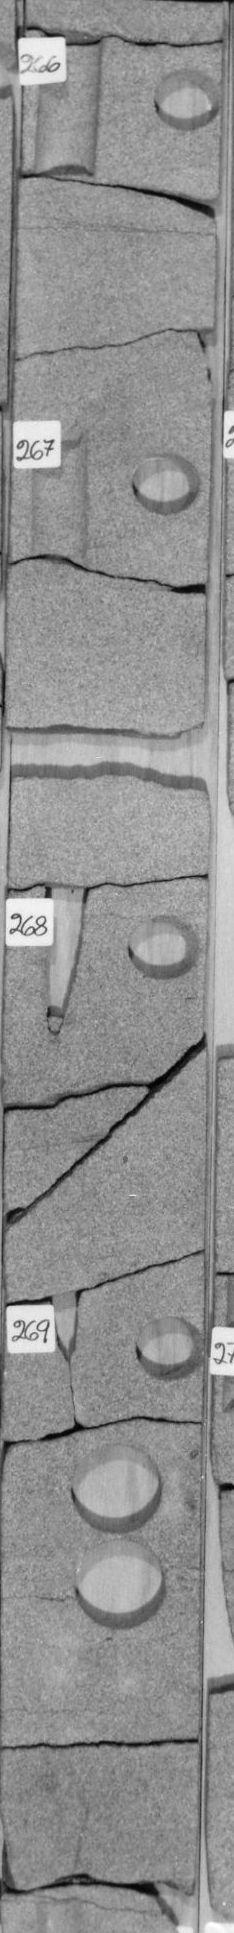hplug: (122, 907, 204, 987), (126, 445, 208, 523), (126, 1309, 204, 1387), (147, 63, 224, 139)
scal: (67, 1437, 167, 1537), (64, 1539, 167, 1635)
vplug: (28, 879, 102, 1037), (38, 35, 108, 182), (30, 439, 102, 570), (42, 1287, 90, 1365)
